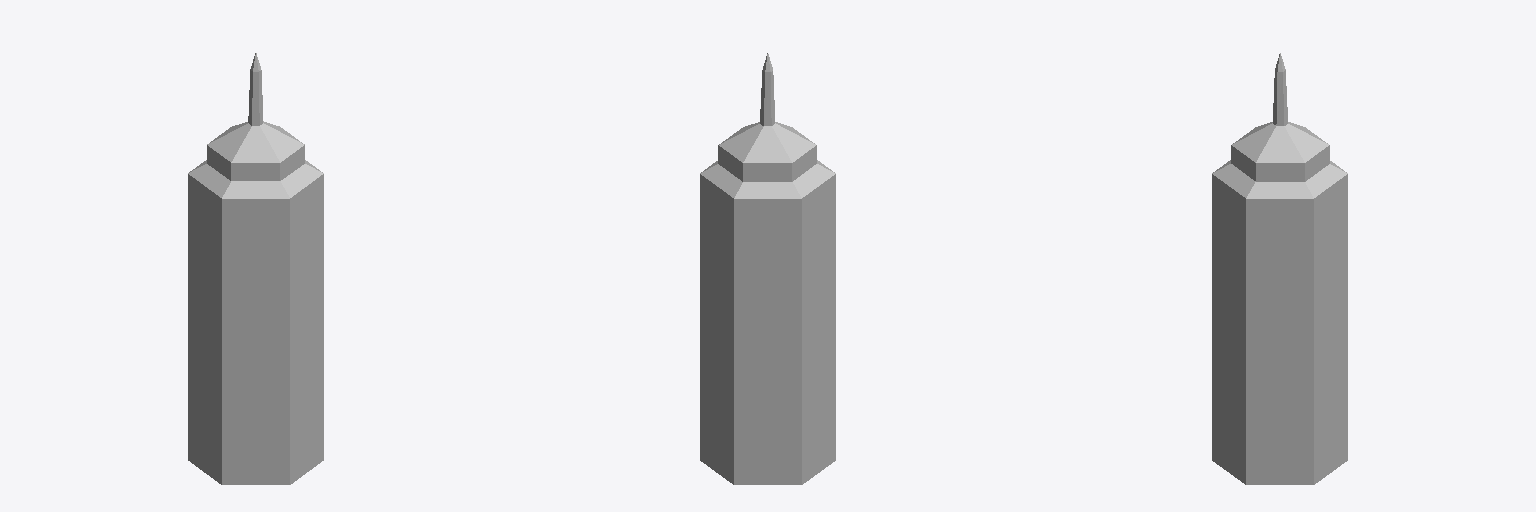
Rendered from ketchup_001.obj.
3 views of the same model, side by side, from view 1: azimuth 30°, elevation 25°; view 2: azimuth 150°, elevation 25°; view 3: azimuth 270°, elevation 25° (orthographic).
Visible parts, largest first — view 1: ketchup_001; view 2: ketchup_001; view 3: ketchup_001.
Part boxes in pixels (bbox=[...]): ketchup_001: bbox=[188, 53, 323, 484]; ketchup_001: bbox=[700, 53, 835, 484]; ketchup_001: bbox=[1212, 53, 1347, 484].
Size of the model in its own units: 0.0717 by 0.2732 by 0.0827.